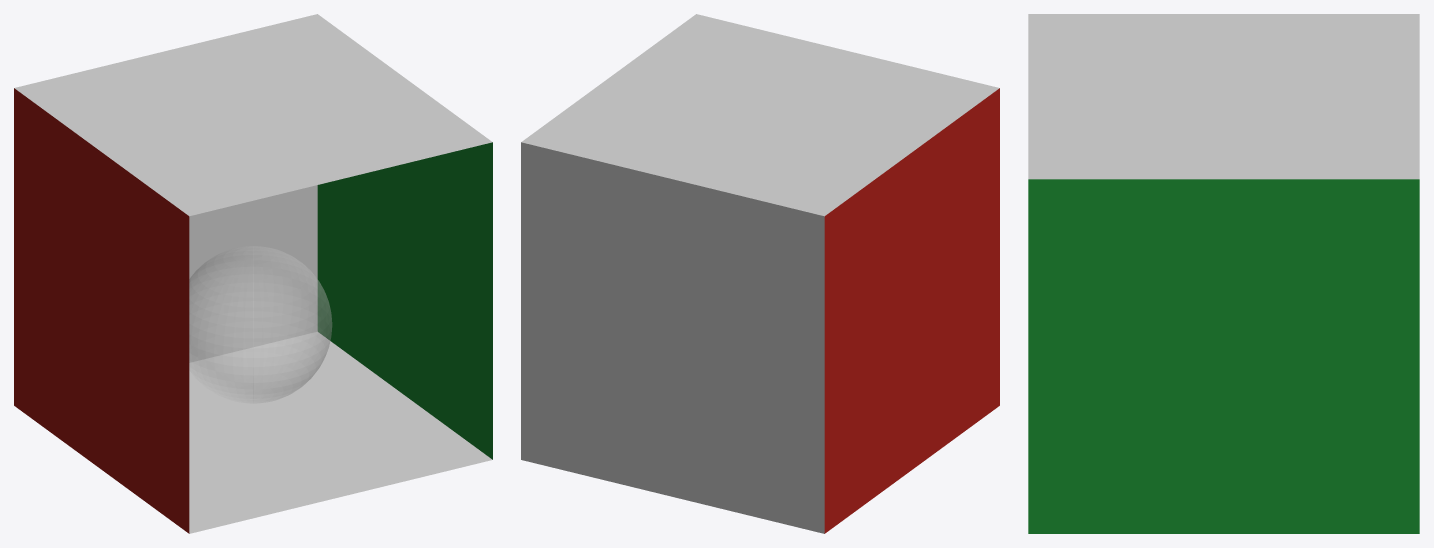
File: CornellCaustics.glb
3 renders of one model, left to right at view 1: azimuth 30°, elevation 25°; view 2: azimuth 150°, elevation 25°; view 3: azimuth 270°, elevation 25°, orthographic. The views are drawn at different scales.
Bounding box in the file's own units: 2 × 2 × 2.
2 materials, 2 textured.
